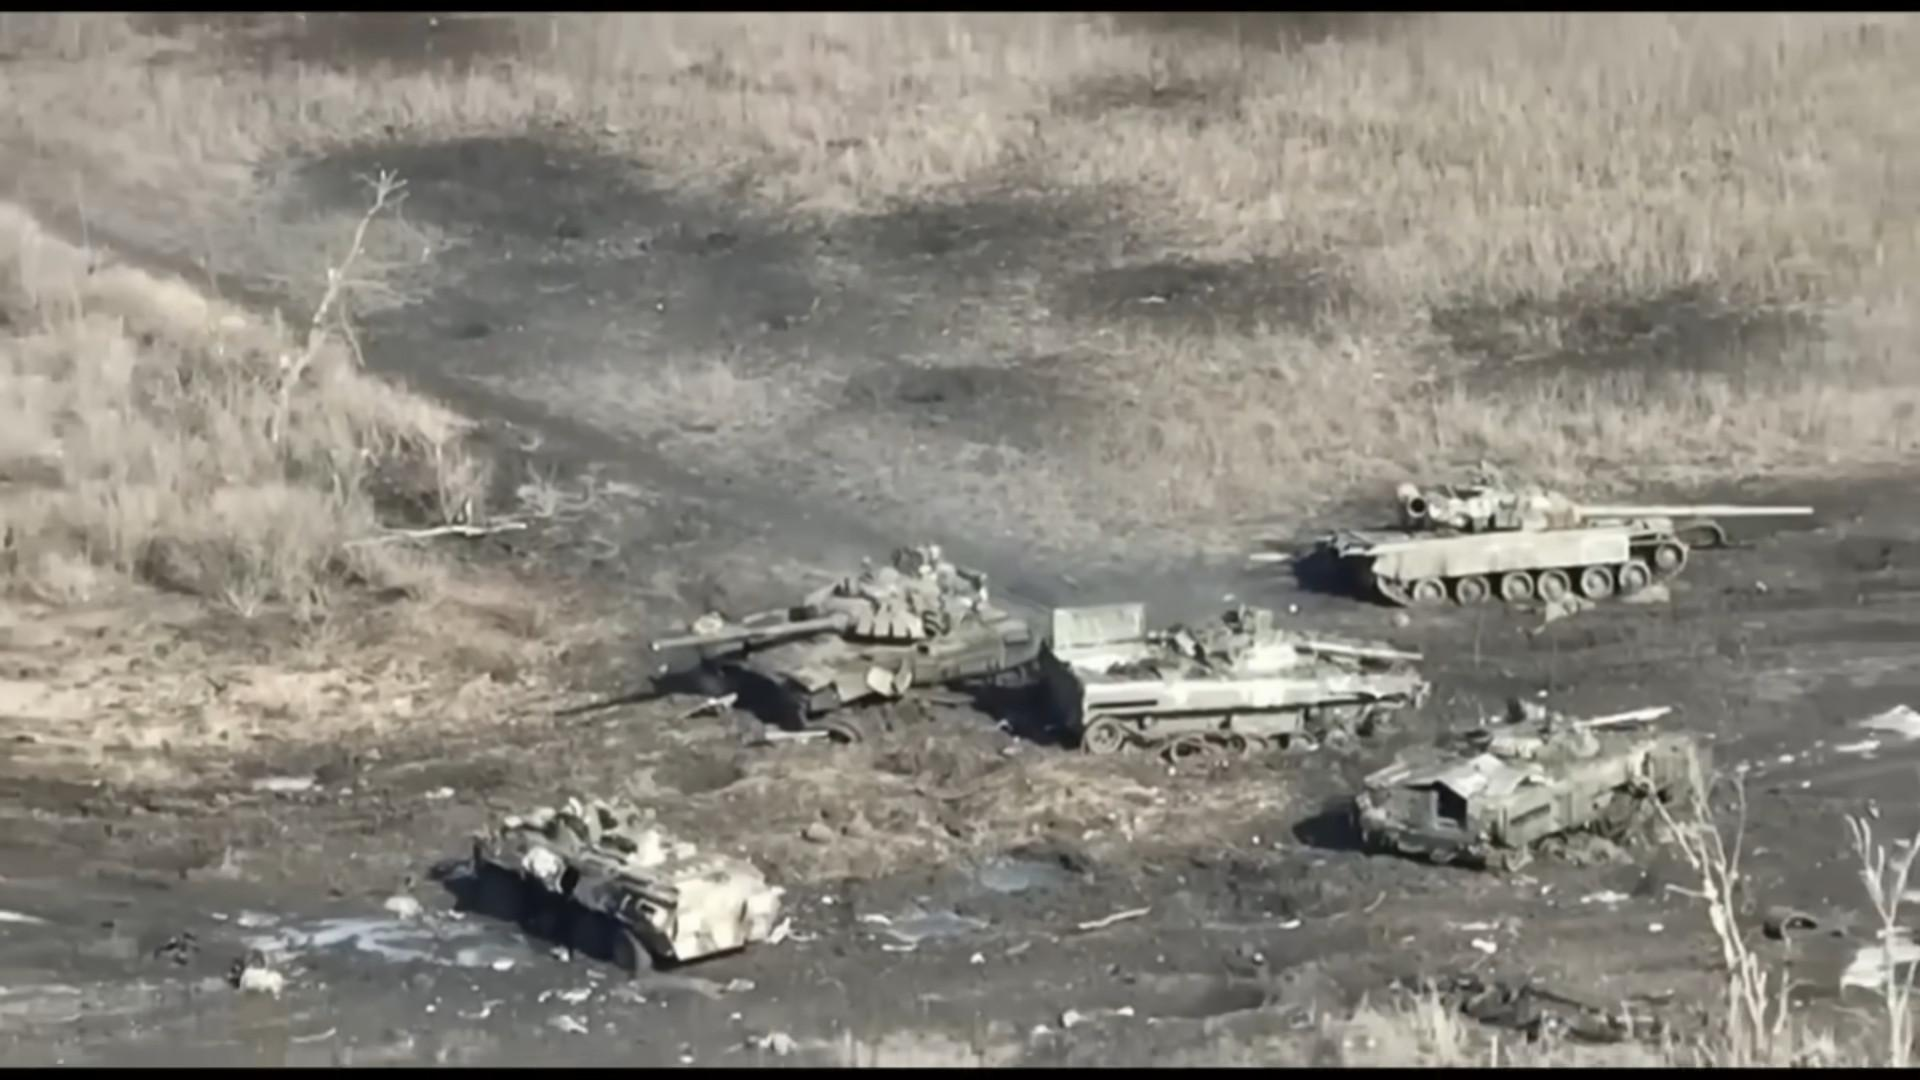tank: (1299, 456, 1816, 608), (651, 541, 1036, 731), (1039, 600, 1433, 762), (1349, 695, 1716, 868)
